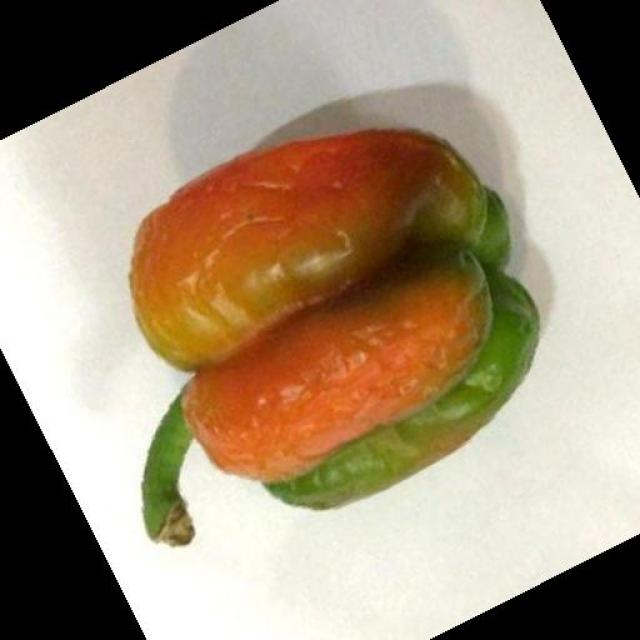Stale_Capsicum: (110, 106, 530, 488)
